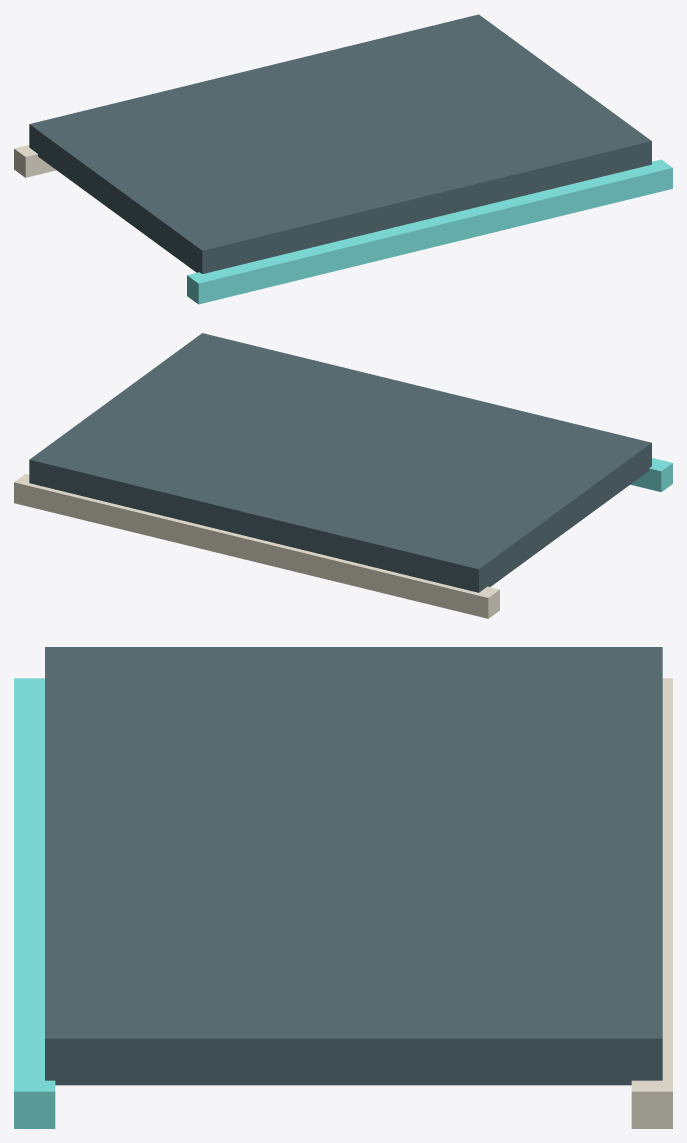
Rendered from 01_world_facade.glb.
3 renders of one model, top to bottom at view 1: azimuth 30°, elevation 25°; view 2: azimuth 150°, elevation 25°; view 3: azimuth 270°, elevation 25°, orthographic. The views are drawn at different scales.
Parts seen in each view (by area): view 1: wall_panel_upgrade, trim_top, trim_bottom; view 2: wall_panel_upgrade, trim_bottom, trim_top; view 3: wall_panel_upgrade, trim_top, trim_bottom.
Boxes of the visible parts, box(x1,y1,x2,y2) form: wall_panel_upgrade: box(29, 14, 651, 273); trim_top: box(187, 159, 672, 304); trim_bottom: box(14, 145, 56, 177); wall_panel_upgrade: box(29, 333, 651, 592); trim_bottom: box(14, 474, 499, 618); trim_top: box(630, 458, 672, 492); wall_panel_upgrade: box(45, 647, 662, 1085); trim_top: box(14, 678, 55, 1128); trim_bottom: box(631, 678, 672, 1128).
Bounding box in the file's own units: 1.9 × 0.17 × 1.28.
